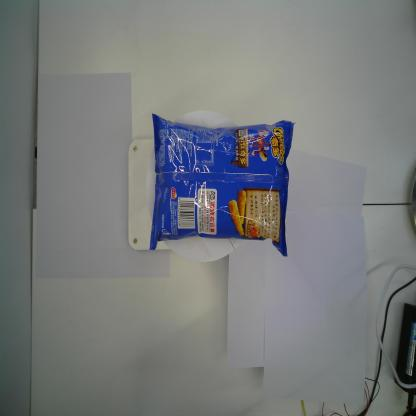Puffed Food: (148, 112, 296, 258)
